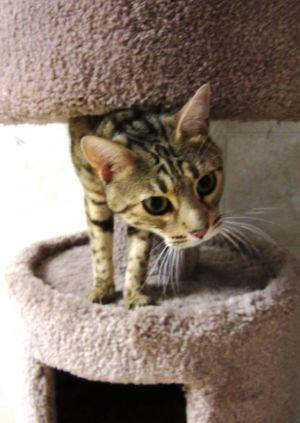bengal: (71, 77, 239, 277)
